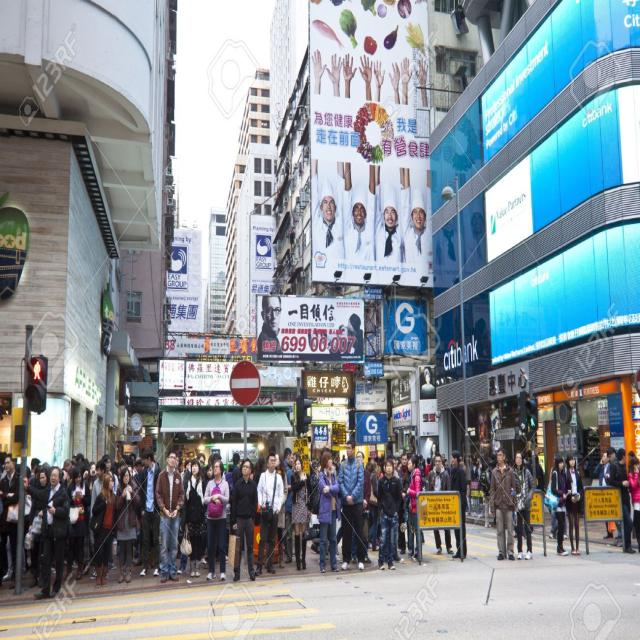body: (312, 157, 431, 270), (313, 44, 430, 112), (22, 464, 72, 600), (42, 449, 93, 555), (153, 448, 185, 584), (227, 456, 260, 582), (111, 451, 147, 566), (252, 451, 284, 576), (336, 439, 366, 572), (136, 446, 166, 576), (176, 450, 206, 575), (201, 459, 230, 582), (488, 446, 518, 562), (89, 472, 119, 588), (113, 466, 142, 584), (315, 445, 343, 565), (316, 450, 342, 574), (180, 458, 207, 577), (608, 445, 636, 556), (0, 451, 22, 591), (65, 466, 92, 580), (288, 455, 314, 572), (264, 451, 290, 568), (27, 467, 51, 590), (376, 458, 402, 570), (426, 452, 454, 555), (266, 451, 289, 569), (543, 453, 569, 557), (89, 458, 111, 580), (512, 450, 536, 560), (563, 452, 585, 556), (384, 453, 404, 564), (405, 454, 425, 563), (283, 450, 302, 564), (449, 449, 468, 560), (355, 450, 372, 566), (257, 294, 286, 361), (201, 462, 220, 564), (547, 454, 568, 542), (594, 450, 614, 540), (376, 457, 394, 550), (397, 452, 412, 555), (627, 457, 640, 555), (367, 460, 380, 551), (228, 452, 242, 536), (340, 313, 363, 359), (484, 442, 532, 462), (101, 453, 120, 497), (482, 460, 493, 528), (402, 458, 413, 524), (419, 364, 436, 400), (530, 454, 546, 492), (604, 446, 617, 486), (28, 457, 42, 487), (253, 455, 266, 487), (367, 451, 400, 463), (282, 446, 294, 473), (282, 446, 293, 473), (180, 459, 192, 482), (460, 448, 482, 459), (416, 451, 426, 473), (428, 442, 444, 455), (628, 450, 636, 472), (458, 453, 466, 475), (424, 457, 432, 478), (207, 449, 222, 460), (441, 453, 449, 472), (62, 458, 72, 473), (476, 459, 482, 484), (483, 464, 489, 485), (174, 452, 181, 470), (382, 458, 388, 477), (340, 453, 346, 462)
